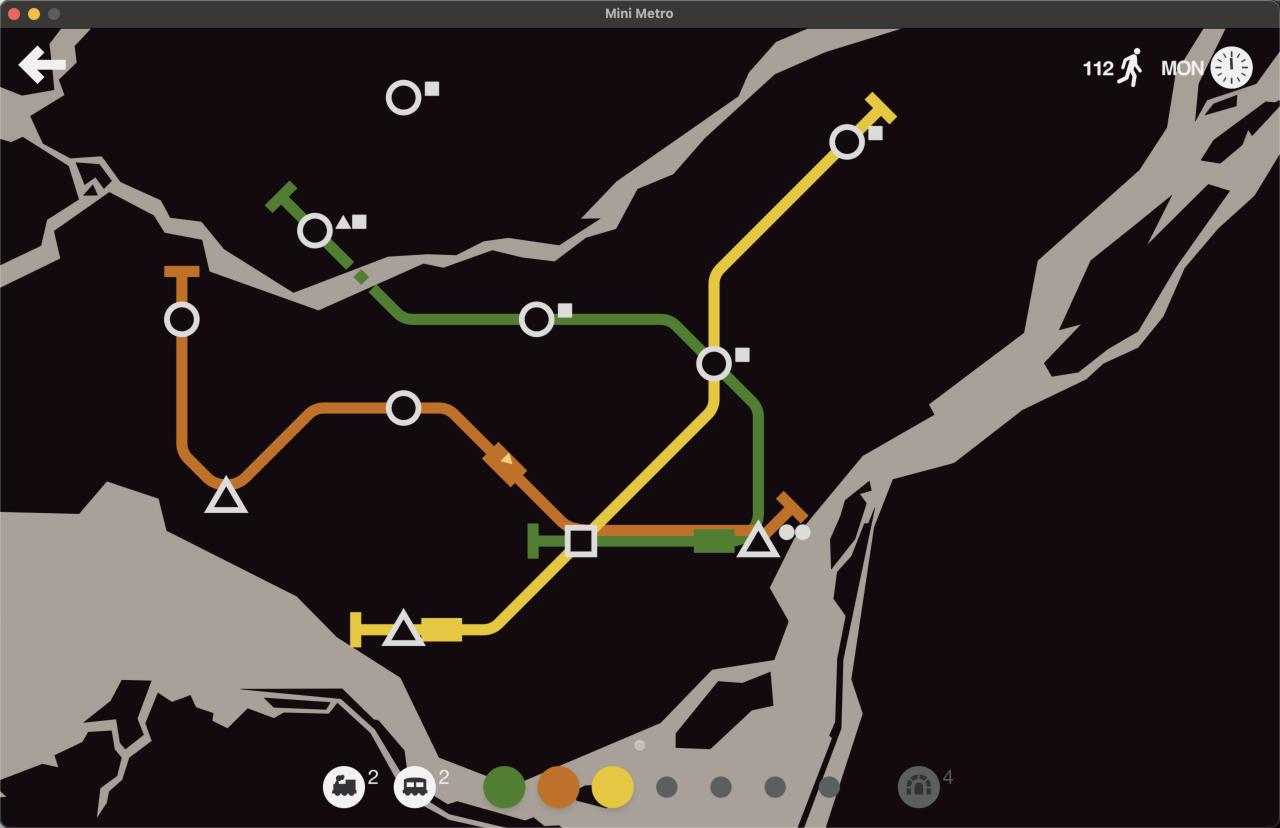CIRCLE: (384, 78, 424, 117), (828, 121, 867, 161), (695, 344, 734, 382), (296, 212, 334, 250), (518, 300, 556, 338), (385, 389, 422, 427), (163, 301, 201, 338)
SQUARE: (565, 523, 599, 558)
TRIANGLE: (380, 606, 428, 649), (736, 518, 781, 559), (204, 474, 249, 515)
